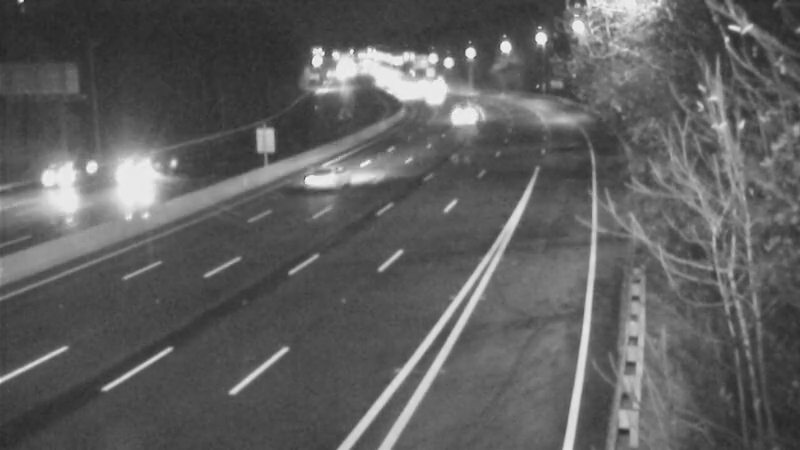vehicle: (288, 145, 368, 225), (98, 143, 178, 223), (14, 140, 94, 220), (433, 88, 483, 138)
